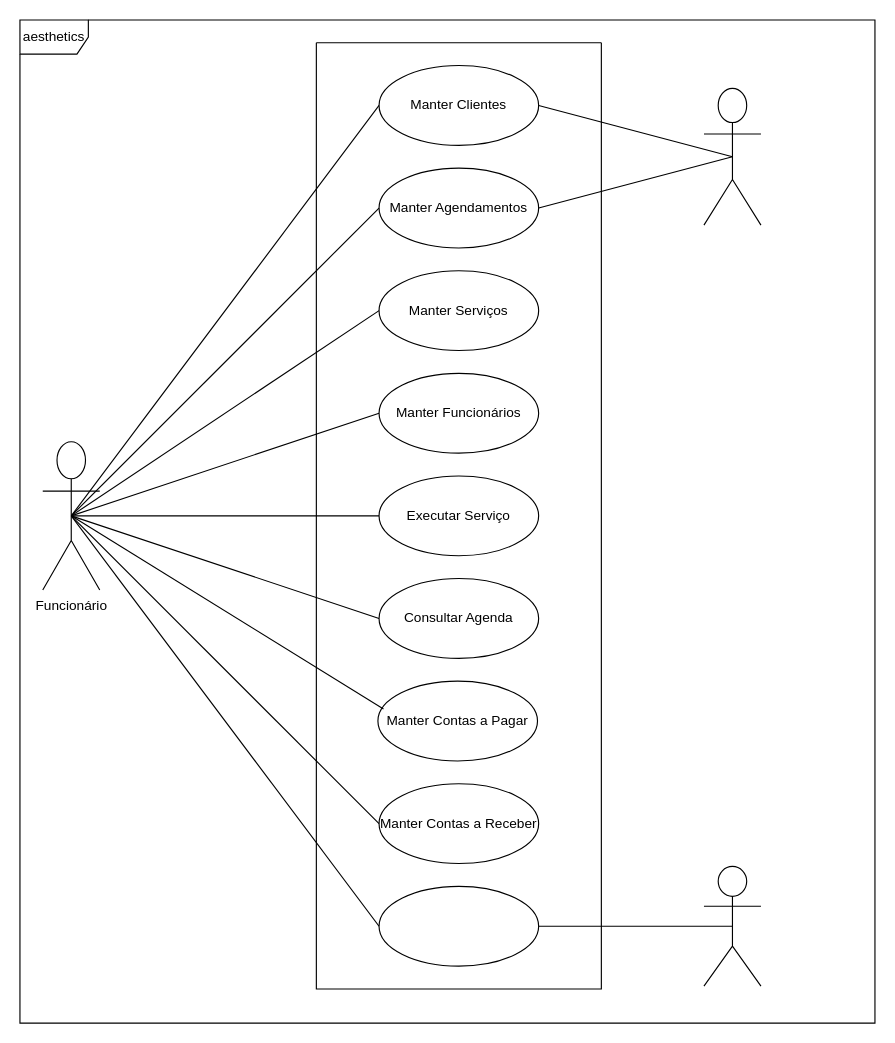
This 895x1043 diagram has some shape labels left out. Each missing label, with the centre of its shape:
"Cliente" goes at [732,156].
"Fornecedor" goes at [732,925].
"Manter Fornecedor" goes at [458,925].
